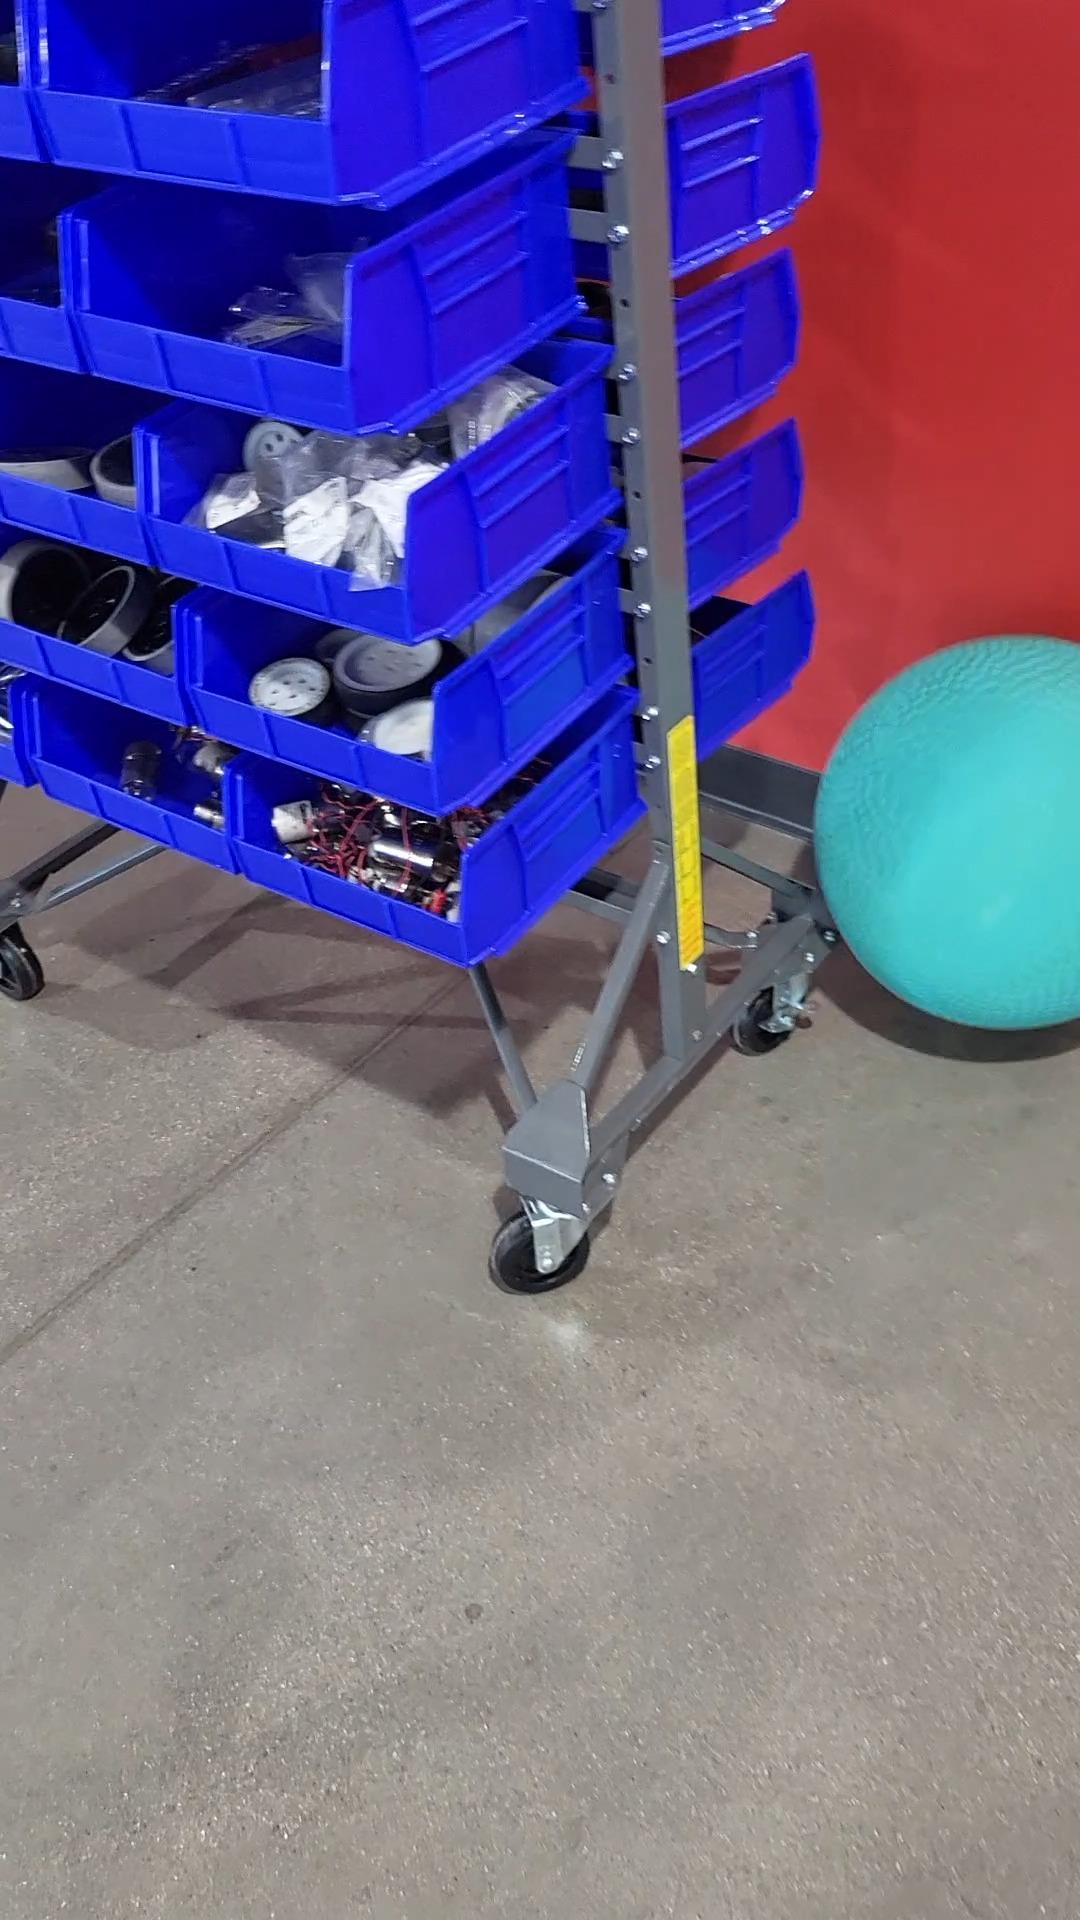algae: (823, 638, 1080, 1021)
